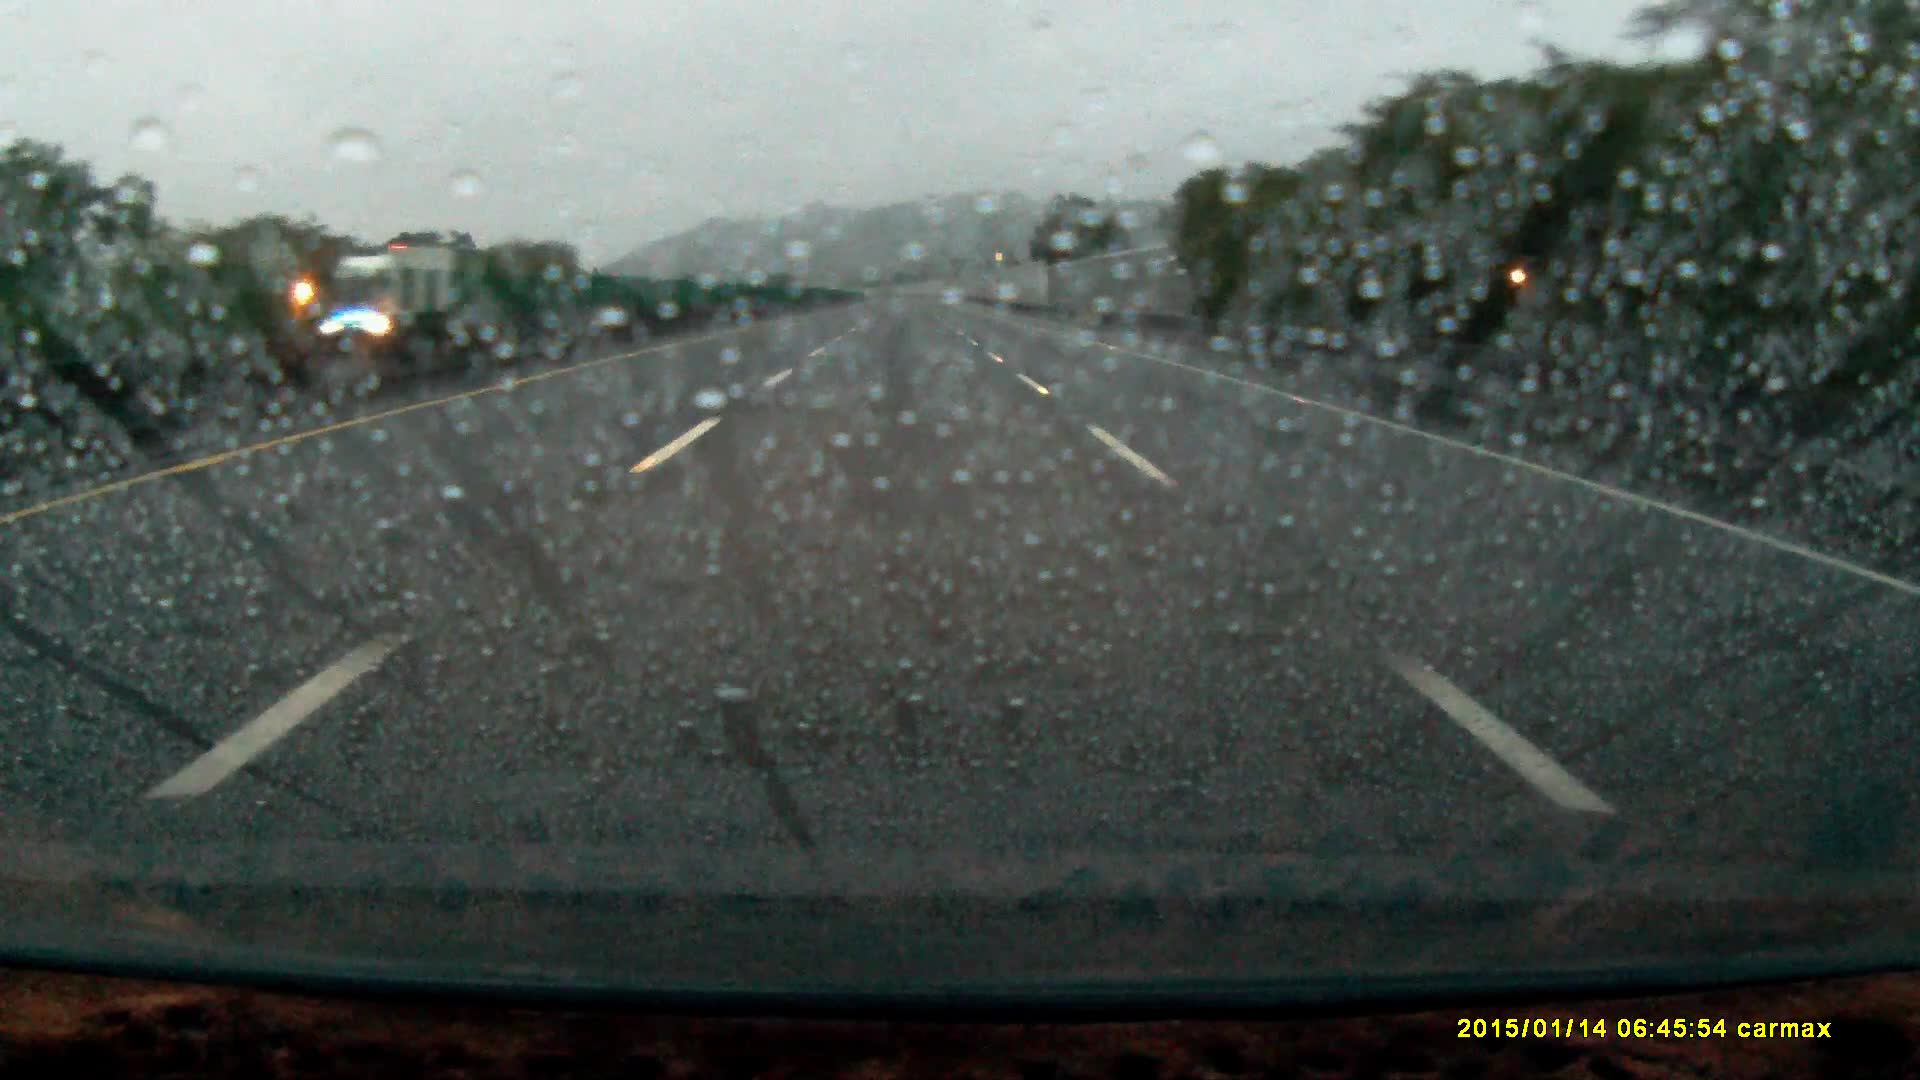vehicle: (314, 251, 465, 351)
